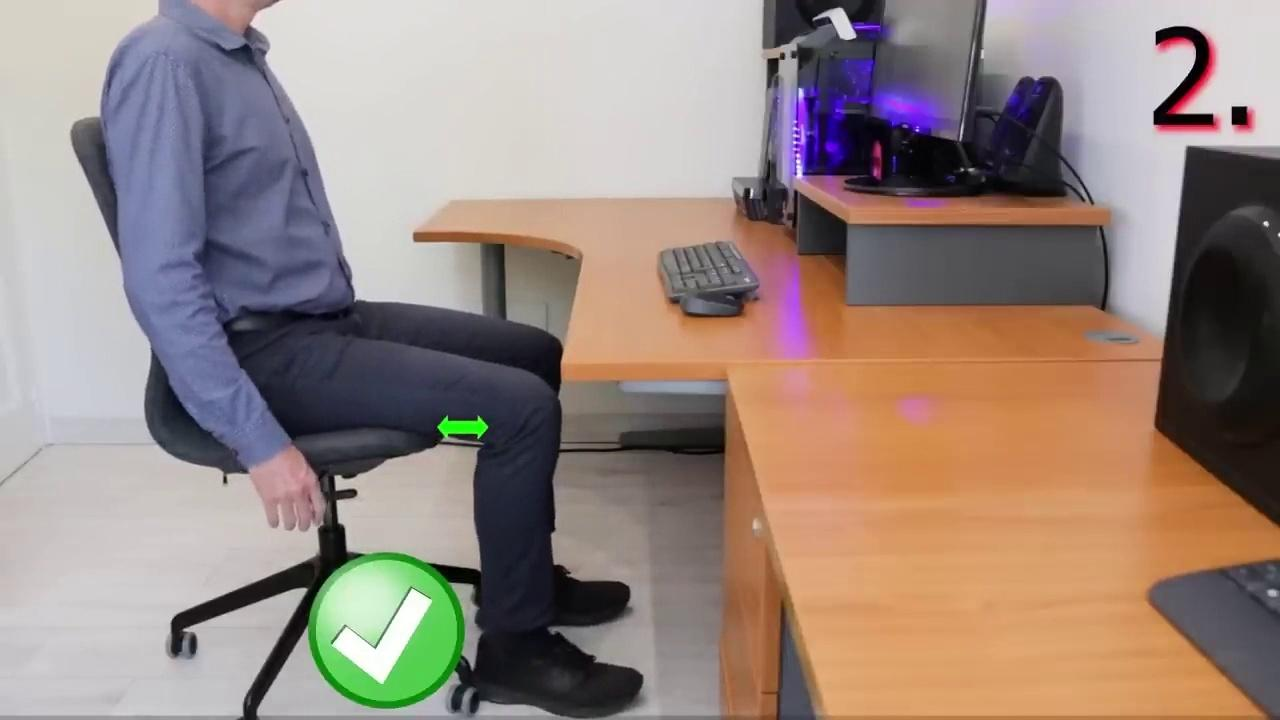GoodPosture: (101, 0, 641, 717)
